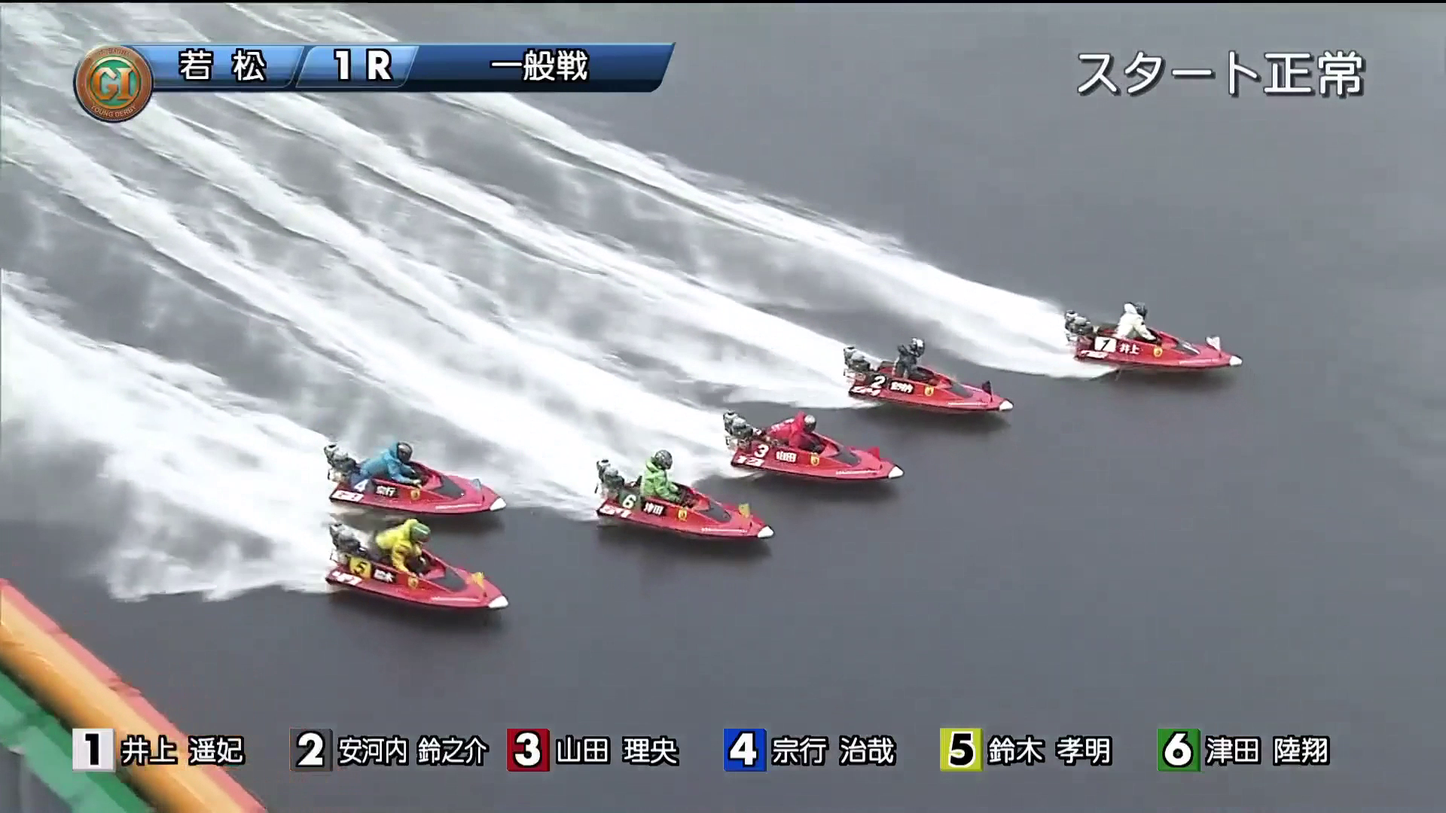１号艇: (1065, 323, 1203, 376)
２号艇: (844, 351, 972, 411)
３号艇: (760, 427, 900, 470)
４号艇: (616, 470, 737, 535)
５号艇: (344, 454, 468, 509)
６号艇: (405, 555, 505, 612)
